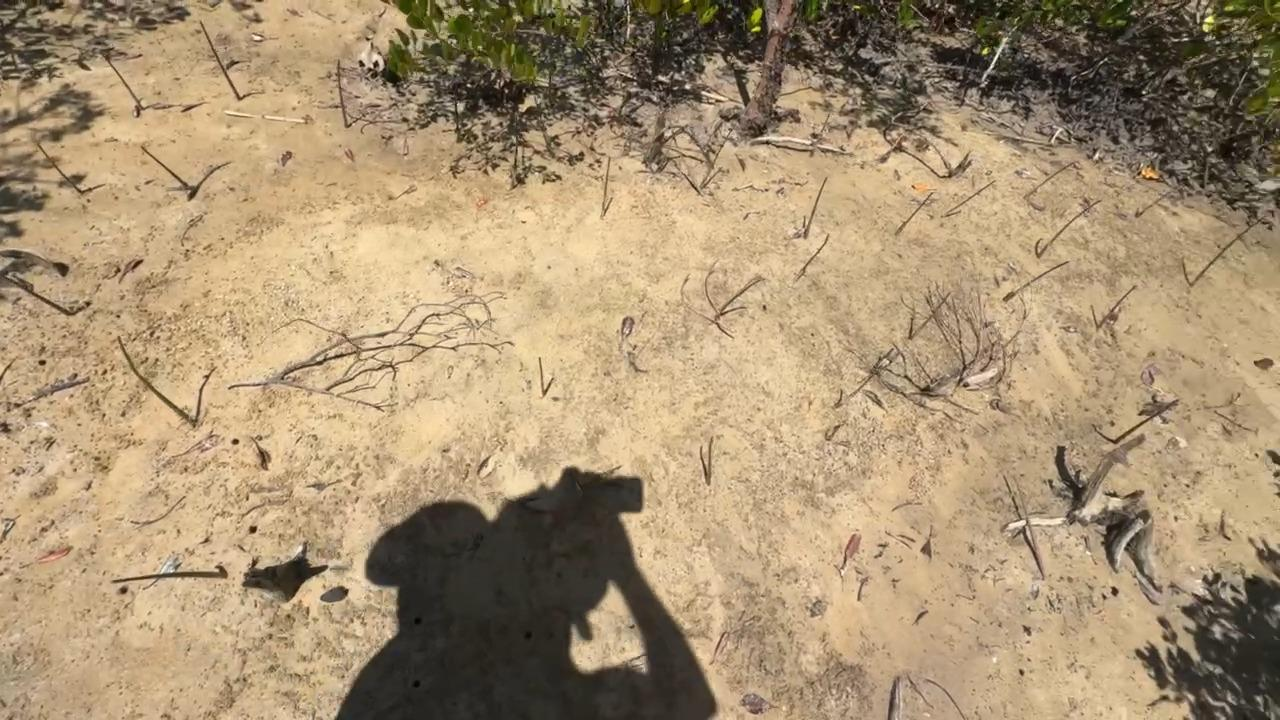Tree: (113, 334, 198, 429), (1191, 214, 1268, 288), (1035, 199, 1102, 258), (1012, 472, 1048, 580), (0, 269, 73, 315), (1113, 397, 1181, 446), (200, 19, 241, 100), (33, 135, 86, 195), (1002, 260, 1072, 303), (138, 142, 195, 193), (104, 55, 145, 109), (940, 180, 998, 217), (714, 276, 766, 316), (1023, 160, 1075, 199), (1095, 283, 1139, 329), (910, 290, 951, 339), (792, 231, 830, 283), (894, 190, 936, 237), (832, 371, 877, 408), (802, 176, 828, 239), (108, 571, 229, 584), (1133, 190, 1173, 218), (337, 59, 348, 128), (601, 155, 612, 219), (705, 435, 716, 485), (700, 167, 723, 190), (537, 357, 546, 397), (821, 112, 830, 133)
